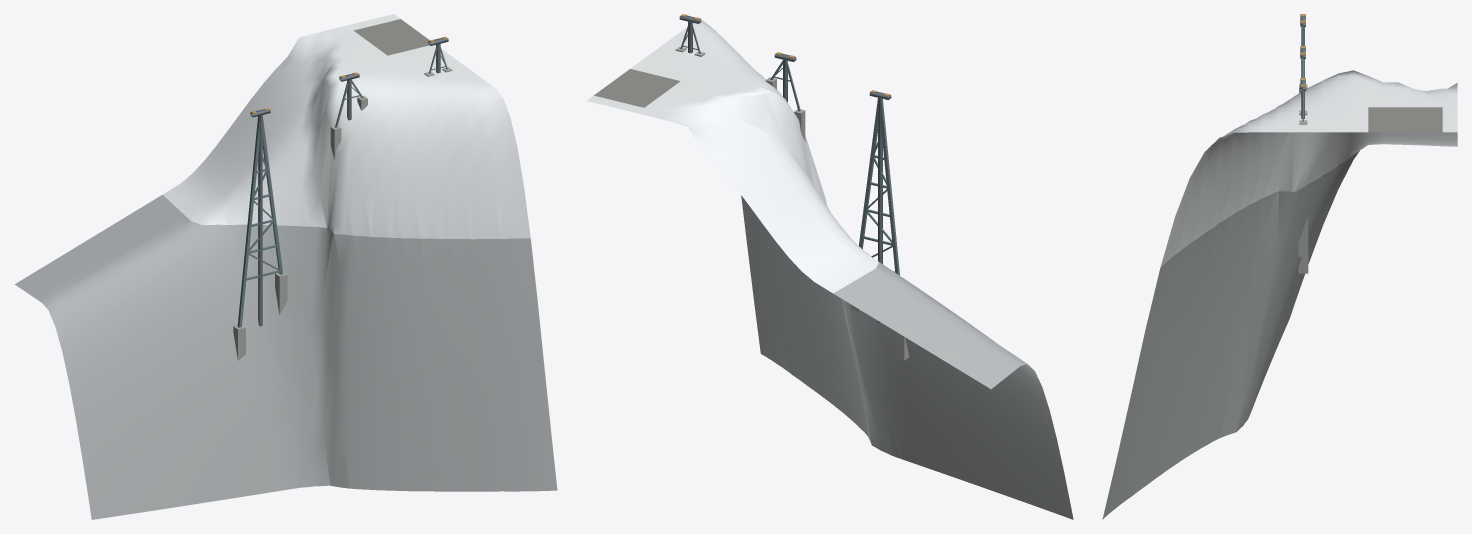
The model's file is alpine-12-12.glb.
3 renders of one model, left to right at view 1: azimuth 30°, elevation 25°; view 2: azimuth 150°, elevation 25°; view 3: azimuth 270°, elevation 25°, orthographic. The views are drawn at different scales.
Visible parts, largest first — view 1: alpine-12-12; view 2: alpine-12-12; view 3: alpine-12-12.
Part boxes in pixels (x1,y1,x2,y2): alpine-12-12: [15, 14, 557, 519]; alpine-12-12: [586, 14, 1073, 519]; alpine-12-12: [1102, 14, 1457, 519].
Bounding box in the file's own units: 256 × 251 × 191.
7 materials, 7 textured.
